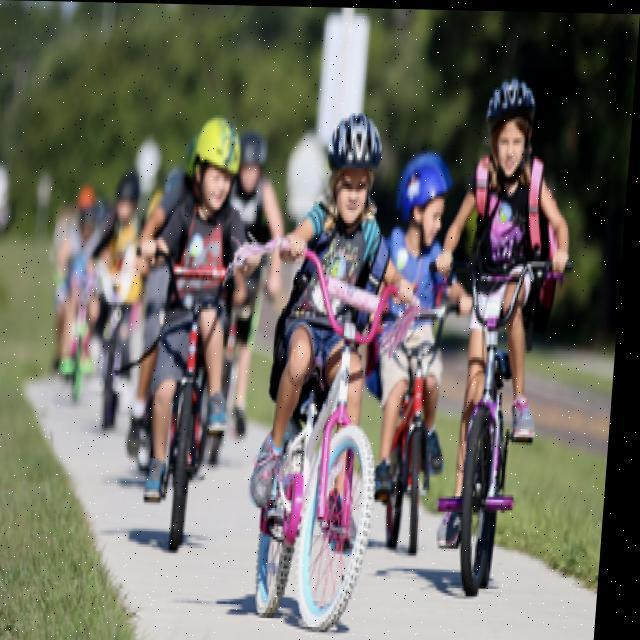Helmet: (322, 103, 389, 230), (485, 69, 544, 177), (188, 114, 245, 217)
